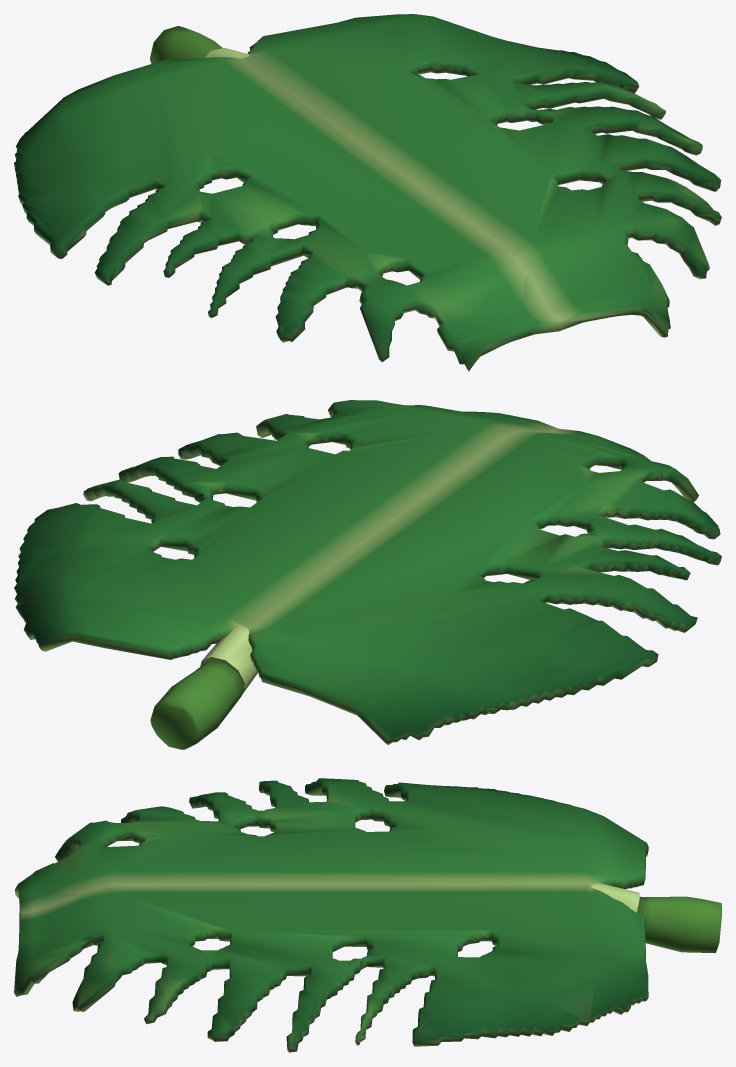
The model's file is canopy_monstera_leaf_b_lod1.glb.
3 renders of one model, top to bottom at view 1: azimuth 30°, elevation 25°; view 2: azimuth 150°, elevation 25°; view 3: azimuth 270°, elevation 25°, orthographic. The views are drawn at different scales.
Visible parts, largest first — view 1: canopy_monstera_leaf_b.001; view 2: canopy_monstera_leaf_b.001; view 3: canopy_monstera_leaf_b.001.
Boxes of the visible parts, x1,y1,x2,y2 form: canopy_monstera_leaf_b.001: (14,14,721,371); canopy_monstera_leaf_b.001: (14,400,721,749); canopy_monstera_leaf_b.001: (14,778,721,1052).
Size of the model in its own units: 10.95 by 1.34 by 12.43.
